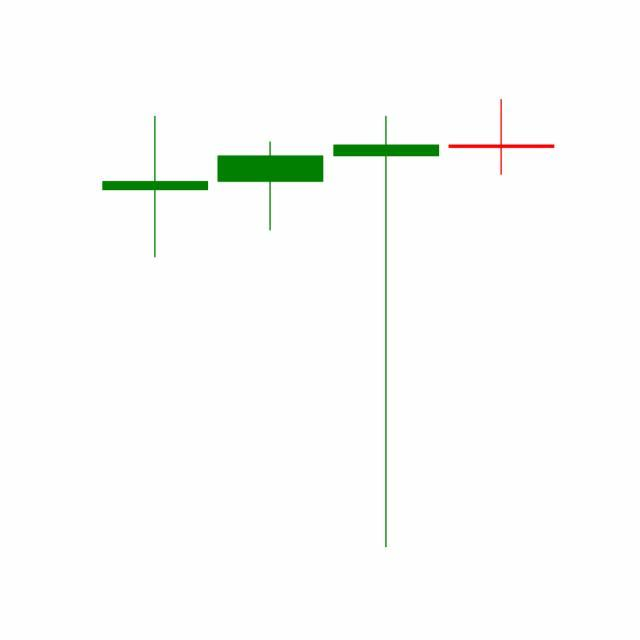Spinning Top: (444, 99, 560, 177)
